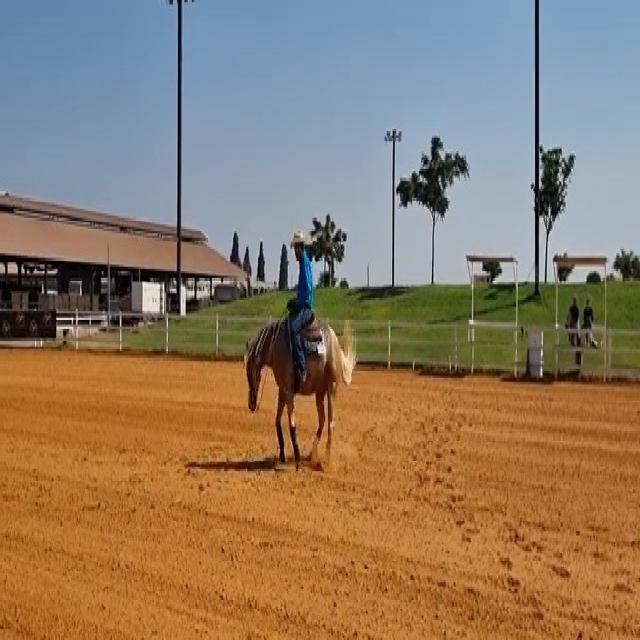horse: (242, 309, 357, 471)
